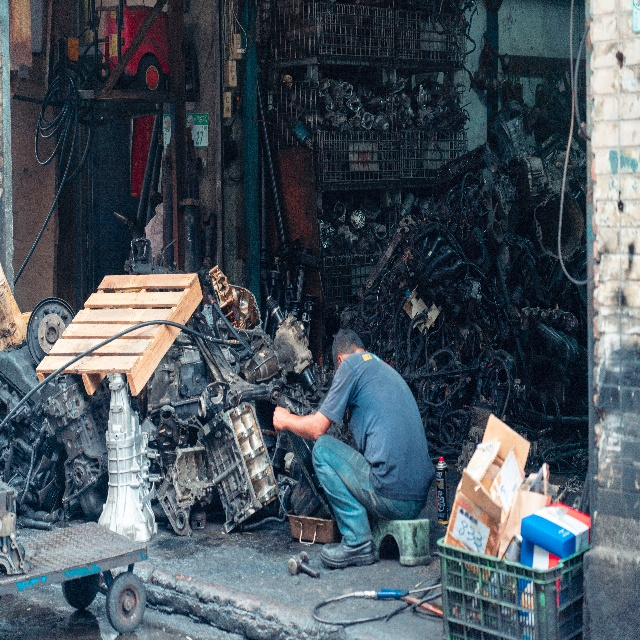Sin_guantes: (272, 406, 290, 433)
